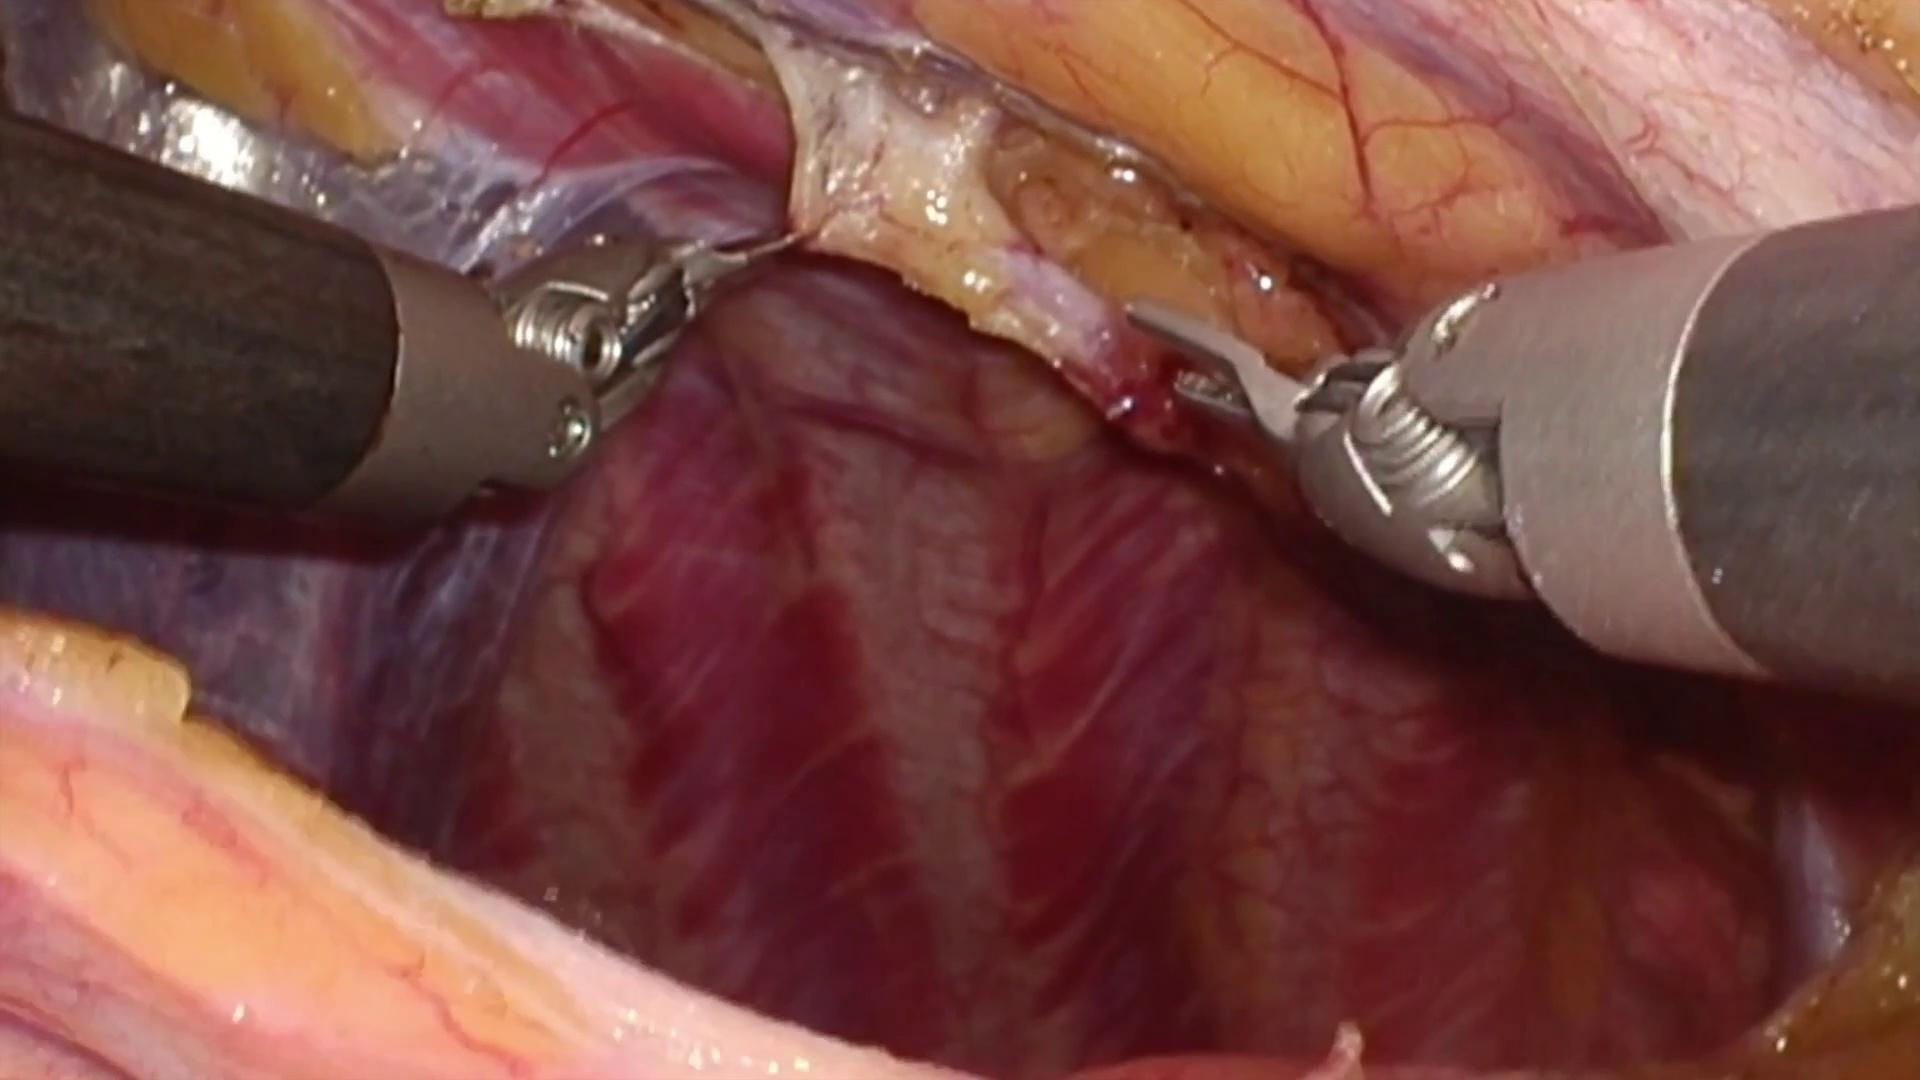Debakey: (669, 204, 827, 324)
clipper: (1122, 301, 1505, 550)
